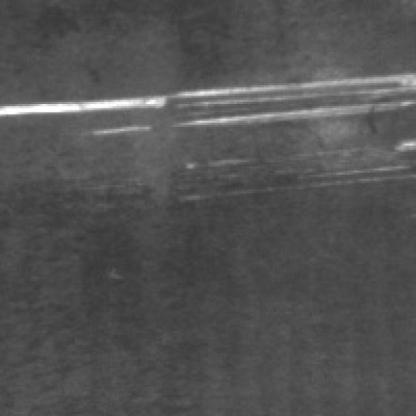scratches: (0, 71, 412, 137), (174, 146, 410, 208)
